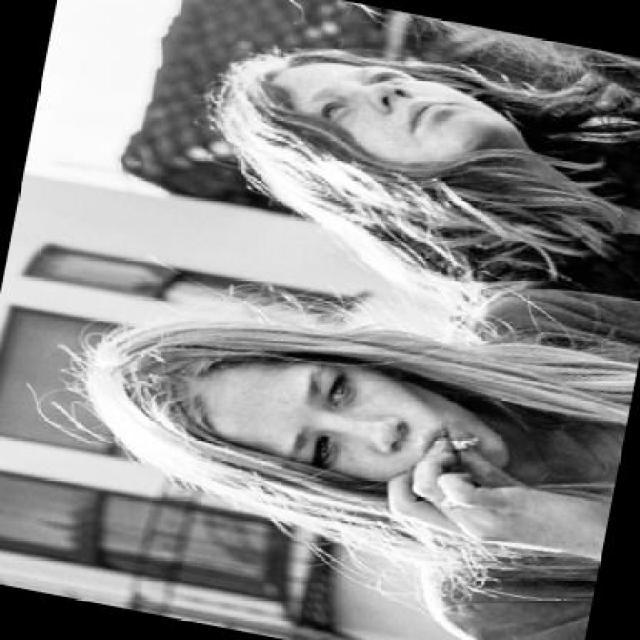smoke: (445, 431, 562, 556)
